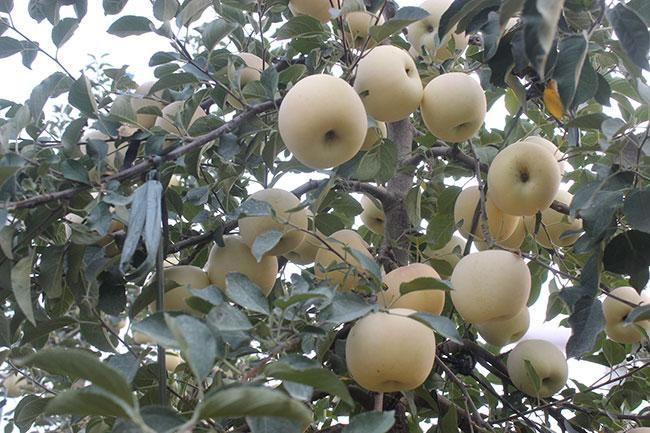apple: (276, 73, 368, 172), (347, 307, 437, 392), (450, 248, 532, 324), (487, 137, 562, 217), (352, 44, 422, 122), (421, 70, 487, 143), (236, 188, 308, 254), (503, 338, 569, 398), (409, 2, 471, 63), (599, 286, 650, 344)
